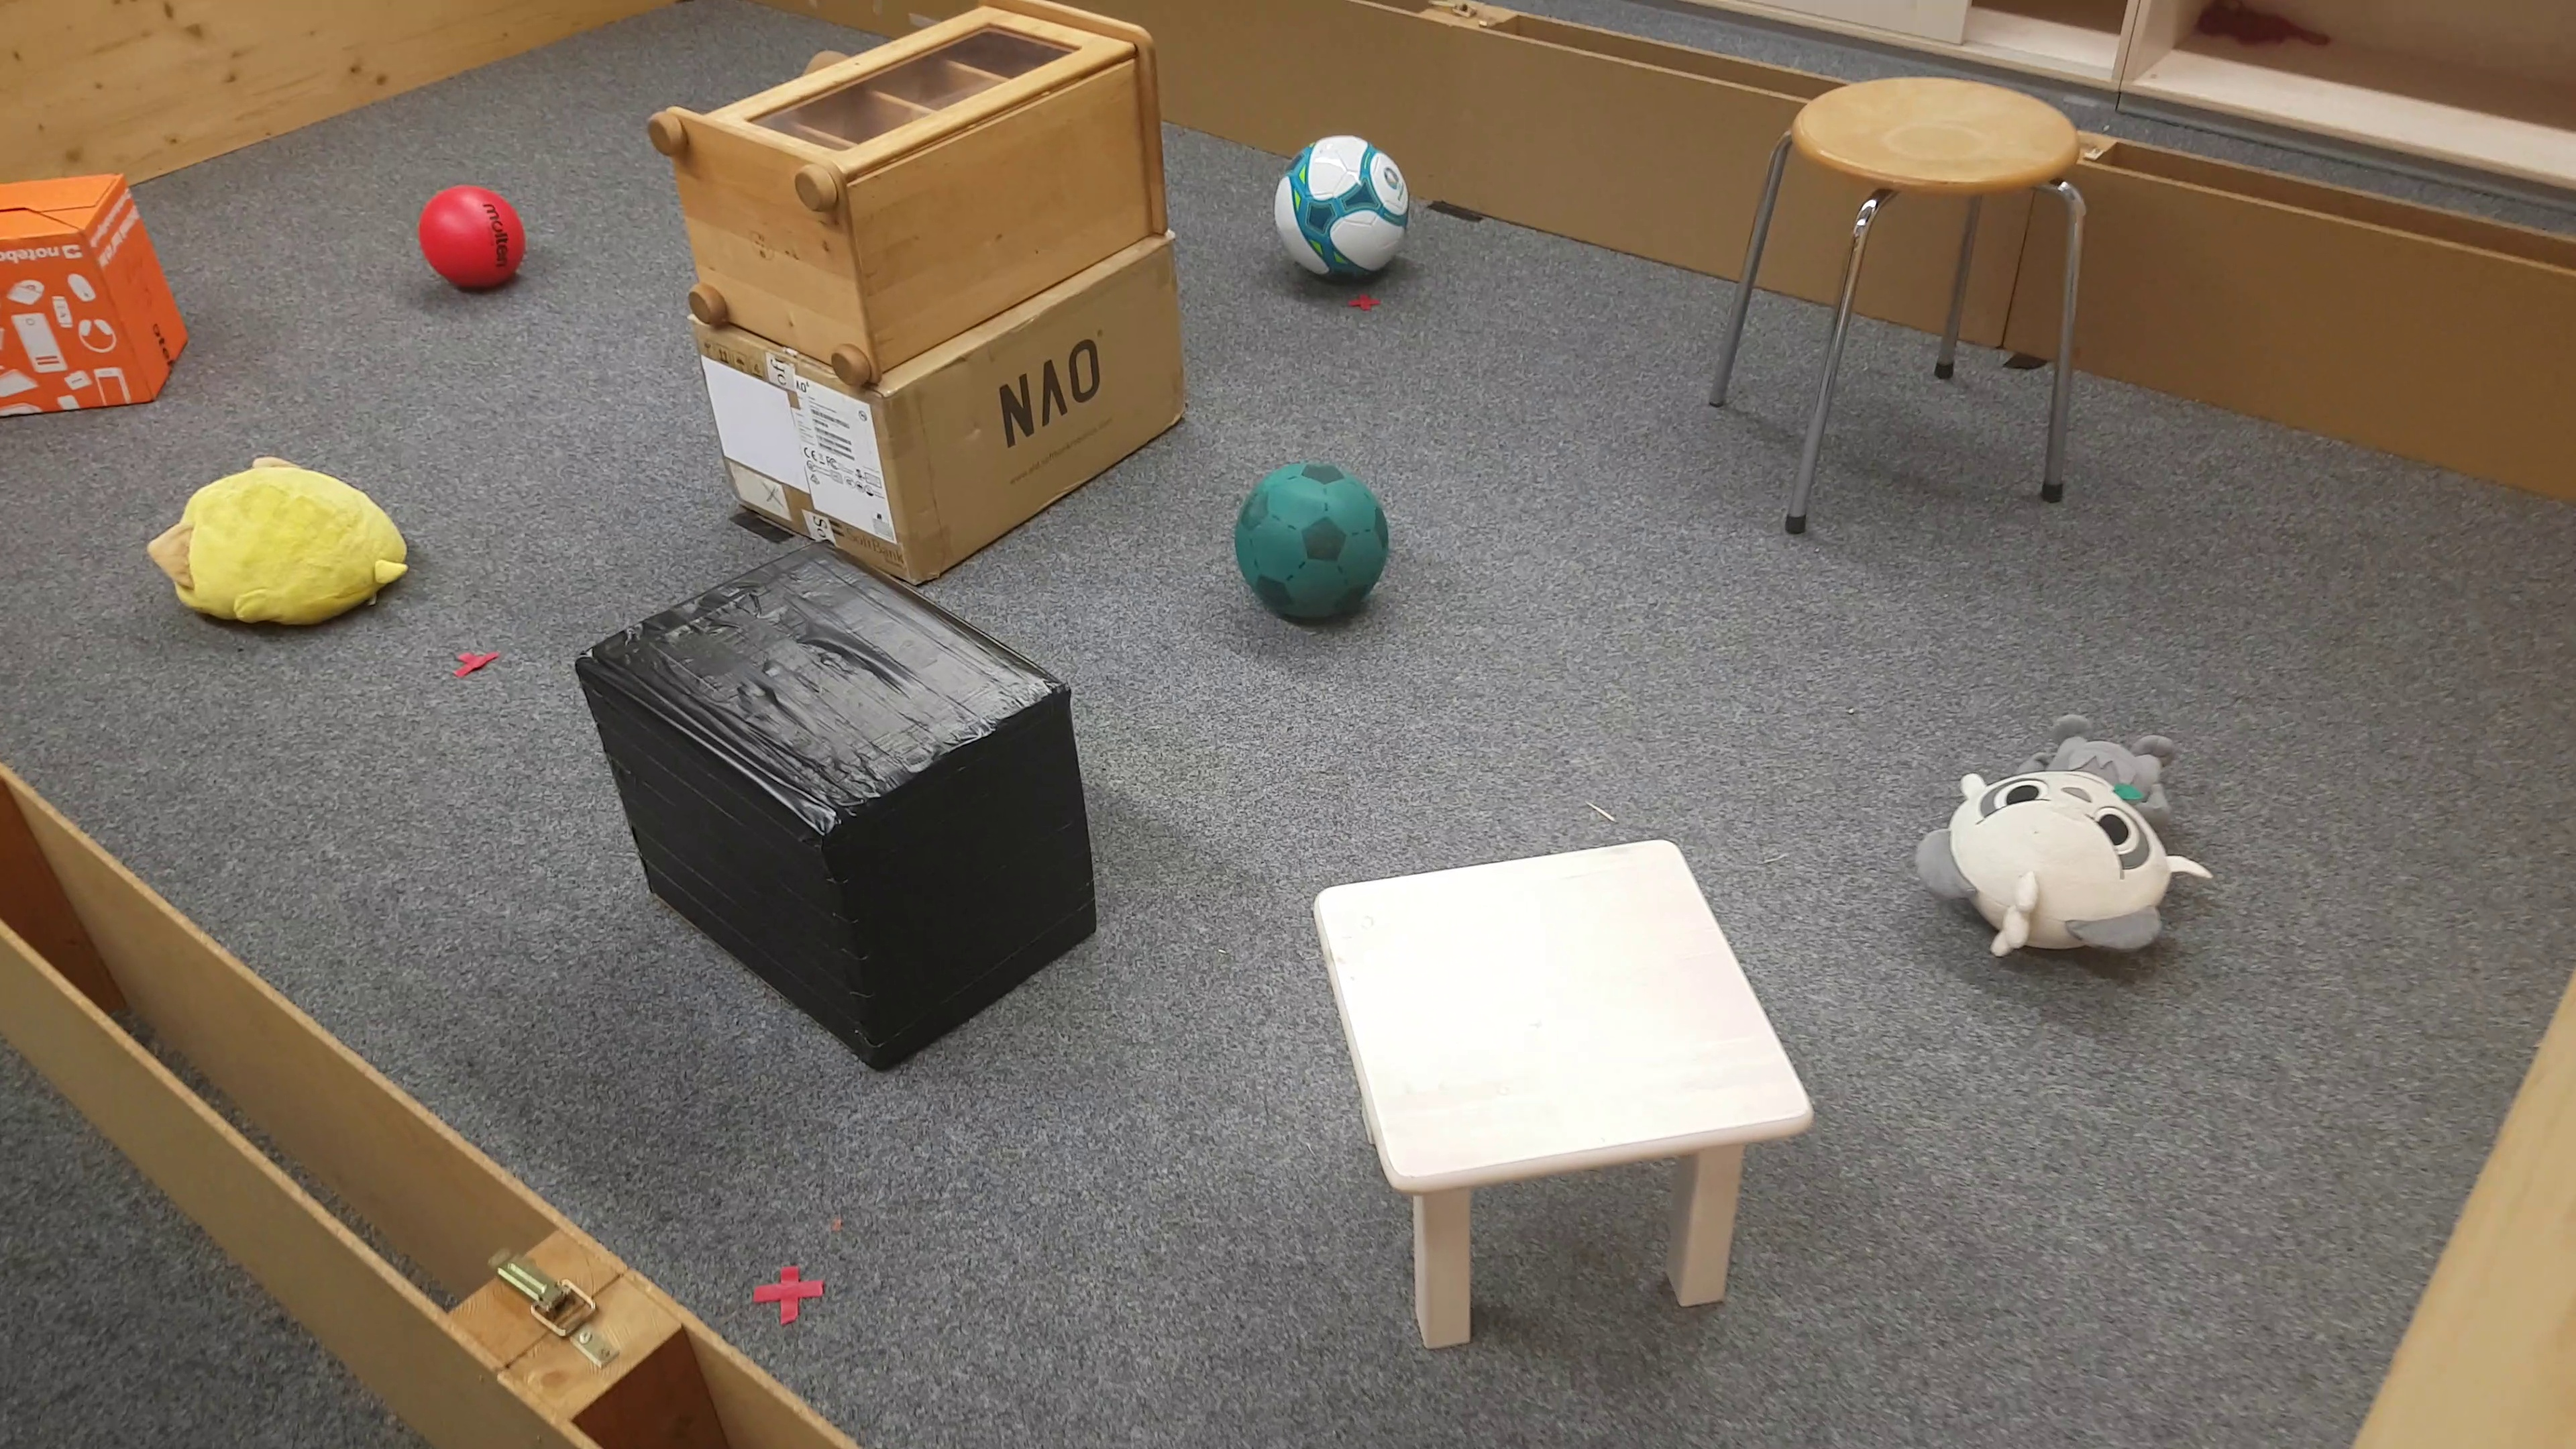grasp: (1923, 708, 2203, 964), (143, 456, 409, 637)
kick: (1240, 453, 1394, 633), (1277, 131, 1407, 278), (419, 184, 525, 295)
push: (579, 541, 1090, 1065), (0, 170, 191, 416)
